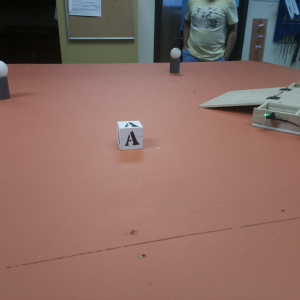blockA: (115, 119, 145, 149)
corner: (249, 16, 270, 67)
obstacle: (1, 60, 15, 102), (168, 47, 183, 77)
side: (252, 107, 300, 133)
slope: (199, 84, 288, 104)
